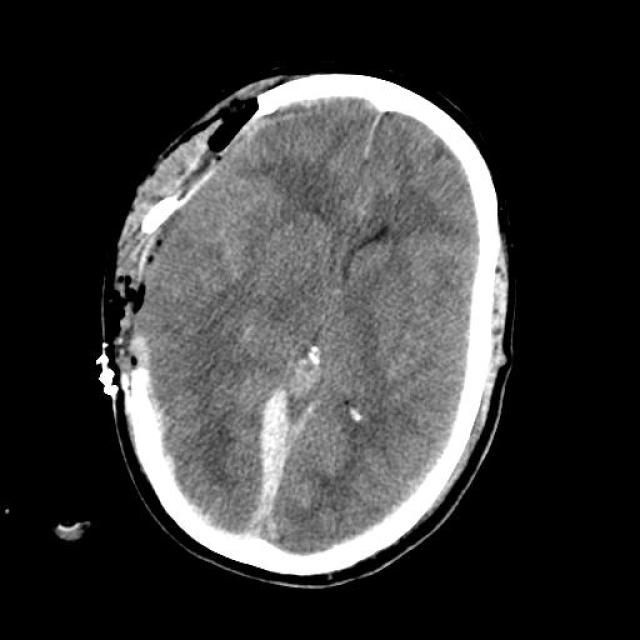Subdural: (226, 385, 334, 551)
